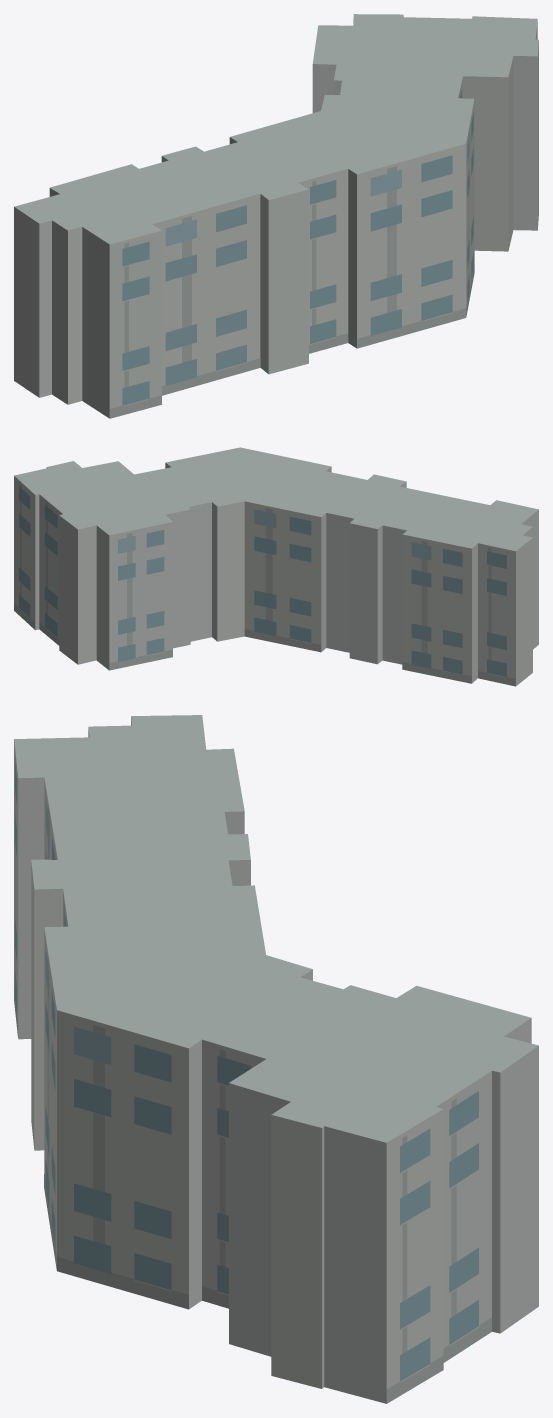
Rendered from survey-upis-32517104.glb.
3 renders of one model, top to bottom at view 1: azimuth 30°, elevation 25°; view 2: azimuth 150°, elevation 25°; view 3: azimuth 270°, elevation 25°, orthographic. The views are drawn at different scales.
Visible parts, largest first — view 1: survey-upis-32517104.tmp; view 2: survey-upis-32517104.tmp; view 3: survey-upis-32517104.tmp.
Boxes of the visible parts, x1,y1,x2,y2 form: survey-upis-32517104.tmp: (14,14,538,418); survey-upis-32517104.tmp: (14,447,538,686); survey-upis-32517104.tmp: (14,715,538,1403).
Size of the model in its own units: 50.62 by 14.4 by 26.25.
